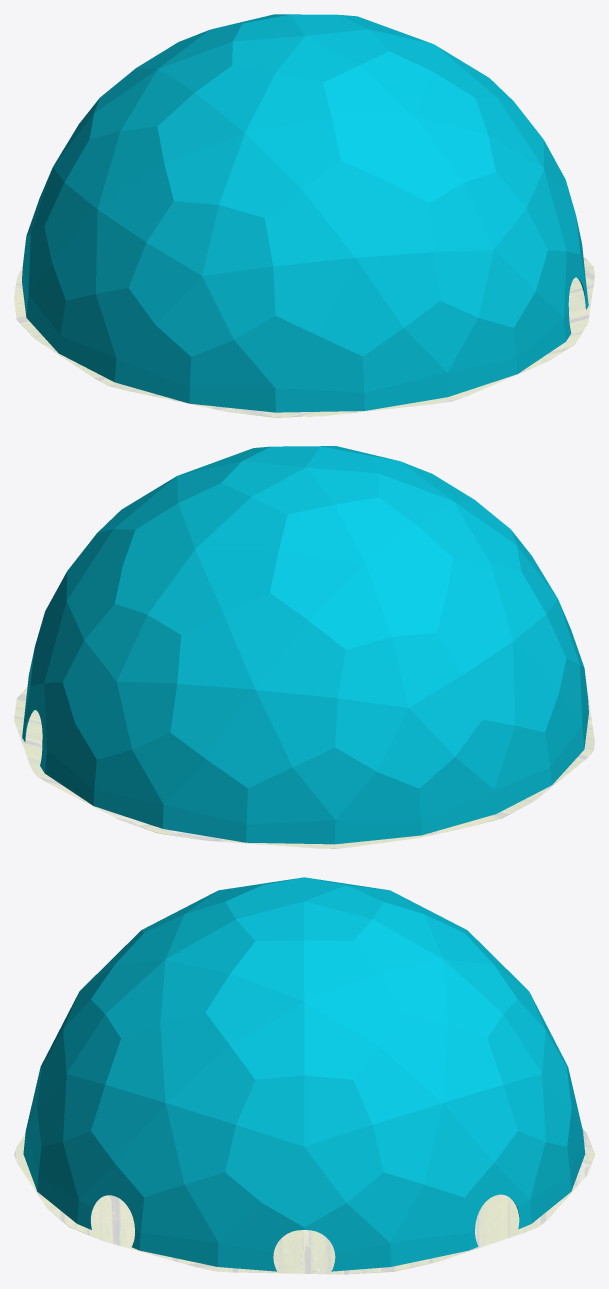
File: NLDome.fbx
The picture shows the model from 3 angles, top to bottom: view 1: azimuth 30°, elevation 25°; view 2: azimuth 150°, elevation 25°; view 3: azimuth 270°, elevation 25°; orthographic projection.
Parts seen in each view (by area): view 1: Icosphere, Plane; view 2: Icosphere, Plane; view 3: Icosphere, Plane.
Boxes of the visible parts, box(x1,y1,x2,y2) form: Icosphere: box(22, 14, 588, 412); Plane: box(14, 258, 594, 417); Icosphere: box(22, 446, 588, 844); Plane: box(14, 689, 594, 848); Icosphere: box(23, 877, 585, 1271); Plane: box(14, 1130, 594, 1274).
Size of the model in its own units: 183 by 90.07 by 187.
2 materials, 1 textured.
